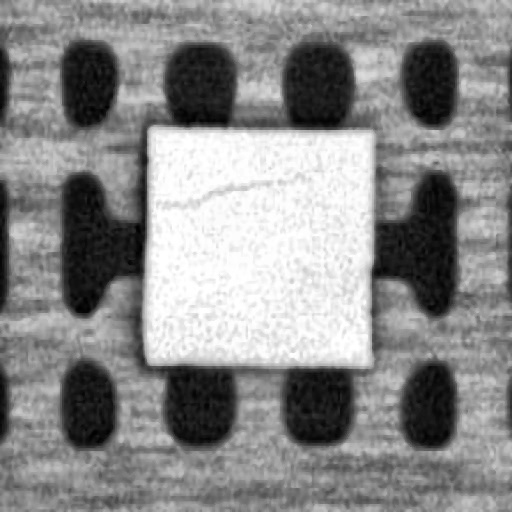DIE_CRACK: (154, 167, 294, 207)
